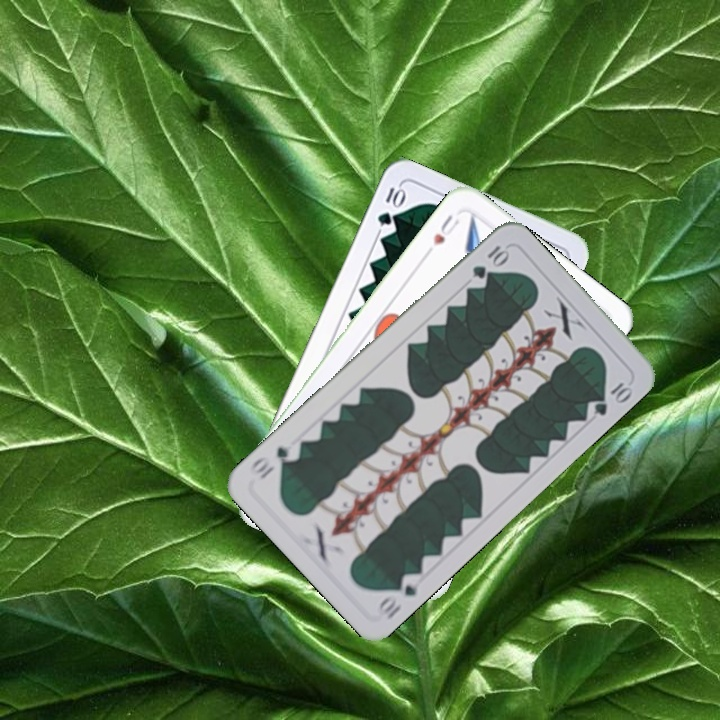G10: (372, 568, 425, 623), (468, 241, 512, 282), (373, 182, 407, 229)
HU: (429, 210, 462, 248)
